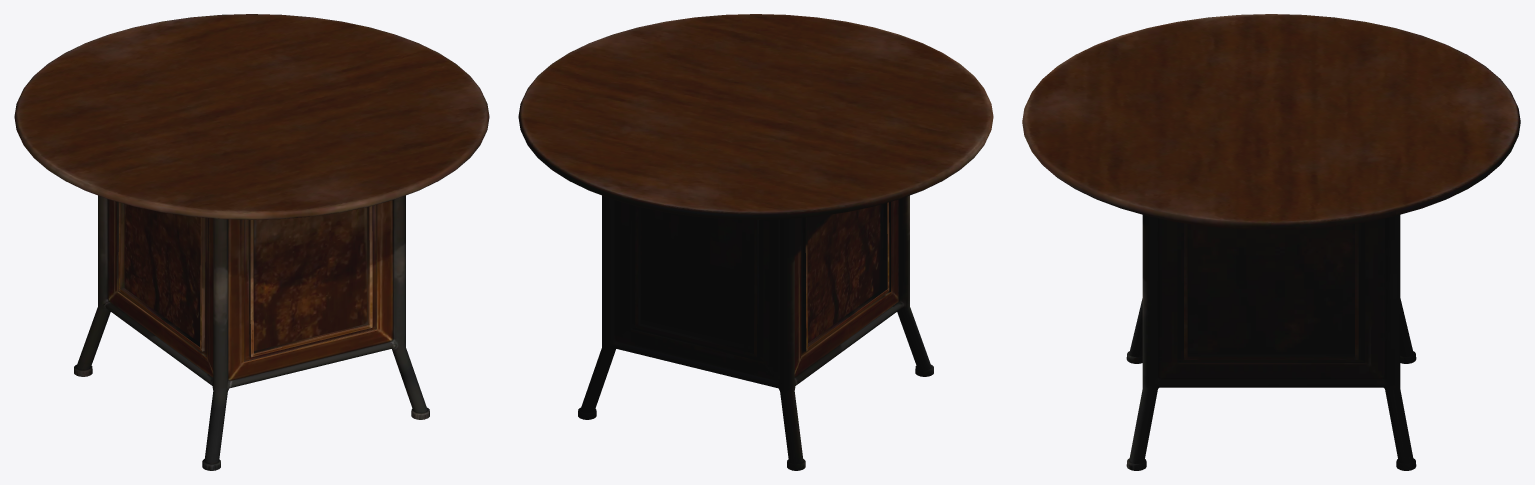
File: table.glb
3 renders of one model, left to right at view 1: azimuth 30°, elevation 25°; view 2: azimuth 150°, elevation 25°; view 3: azimuth 270°, elevation 25°, orthographic. The views are drawn at different scales.
Size of the model in its own units: 19.25 by 12.6 by 19.25.
1 material, 1 textured.
